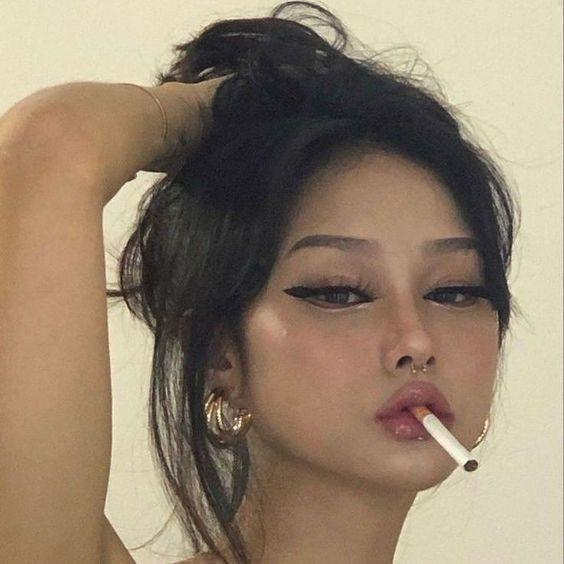cigarette: (408, 404, 479, 473)
